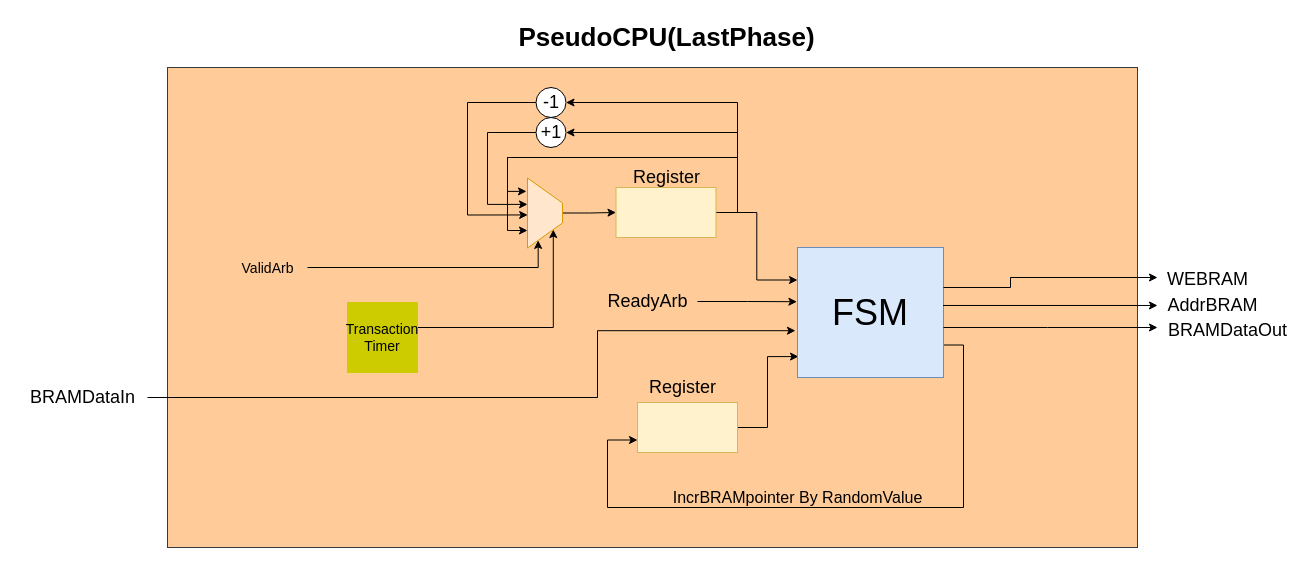
Image size: 1314x565. Some labels were removed from this diagram. Each missing label, with the centre of its shape:
"BRAMpointer" belongs at (x=687, y=427).
"NumOfTrans" belongs at (x=665, y=212).
